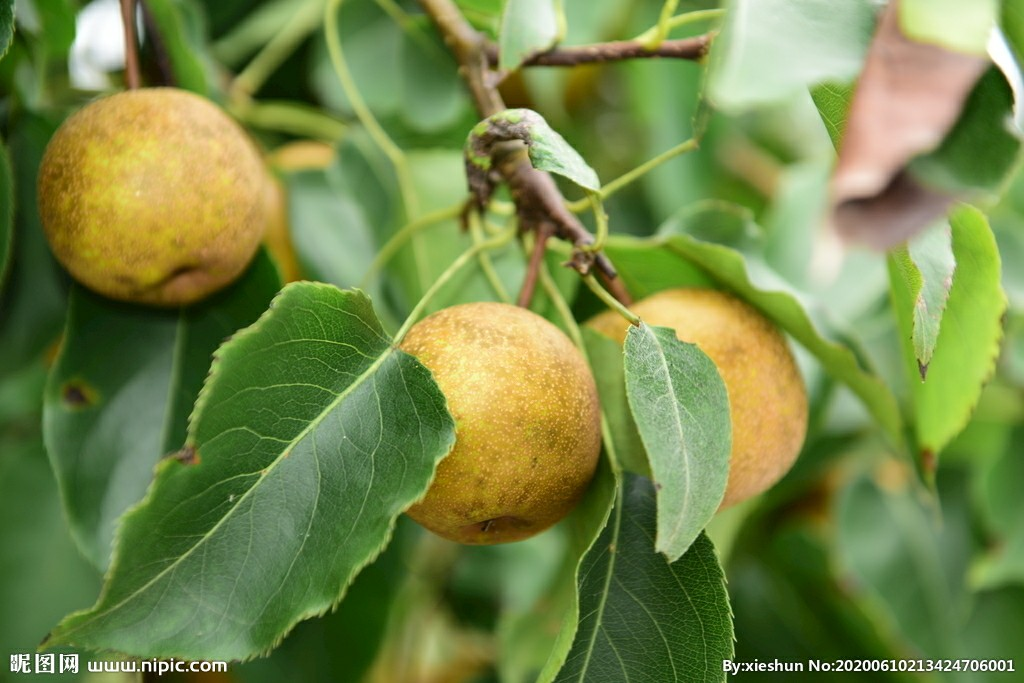pear: (379, 301, 598, 546), (579, 288, 806, 520), (39, 88, 268, 304)
